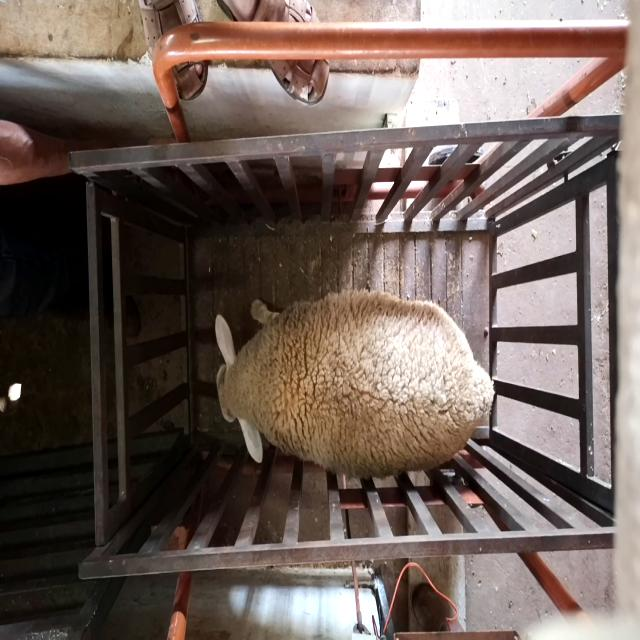sheep: (215, 291, 495, 478)
